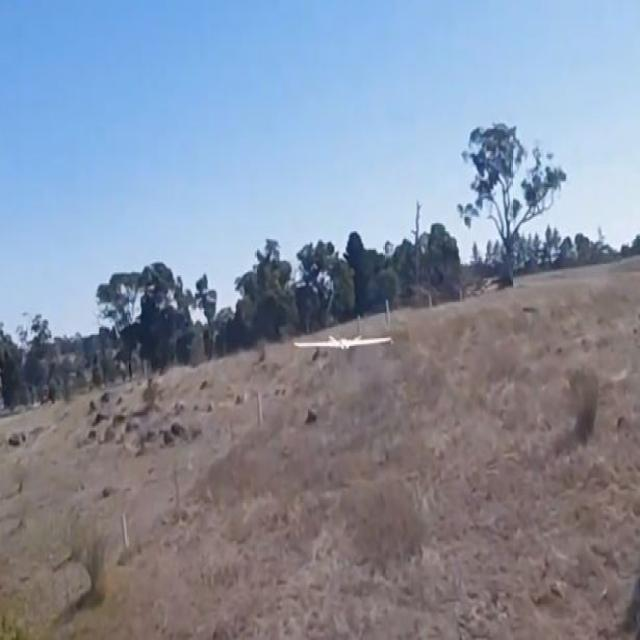iha: (324, 333, 361, 351)
